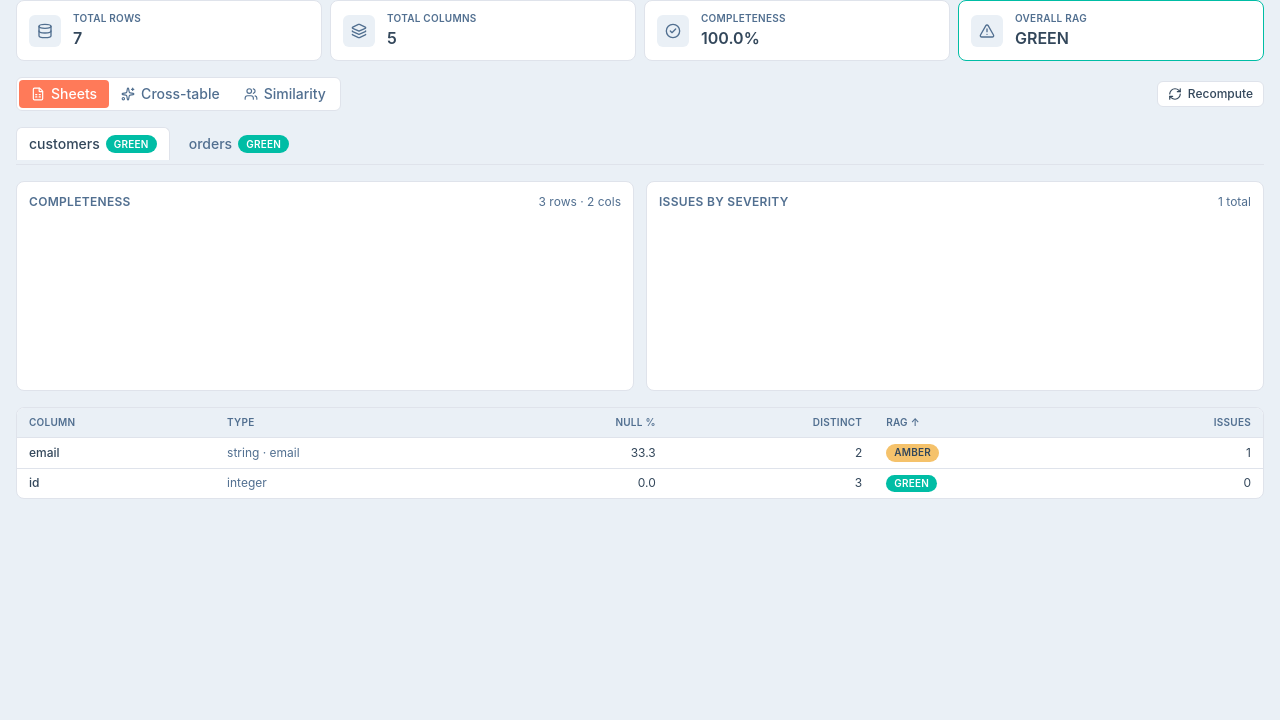
Test case: DataQualityDashboard › opens the column drawer when a row is clicked
Click the text "email": x=44, y=452 [17, 438, 215, 468]
(page scrolled)
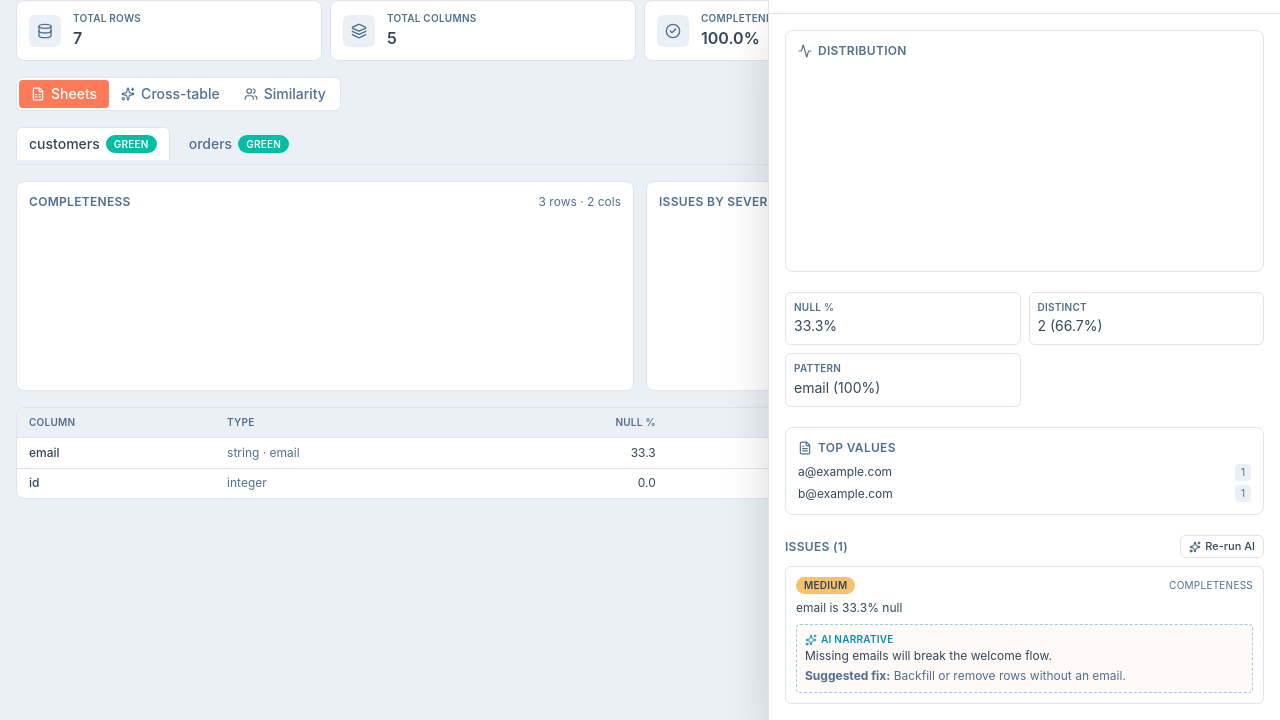
Expected: the dialog named "column email details" is shown, [768, 0, 1279, 719]
Expected: the text "Missing emails will break the welcome flow." is shown, [805, 648, 1052, 664]
